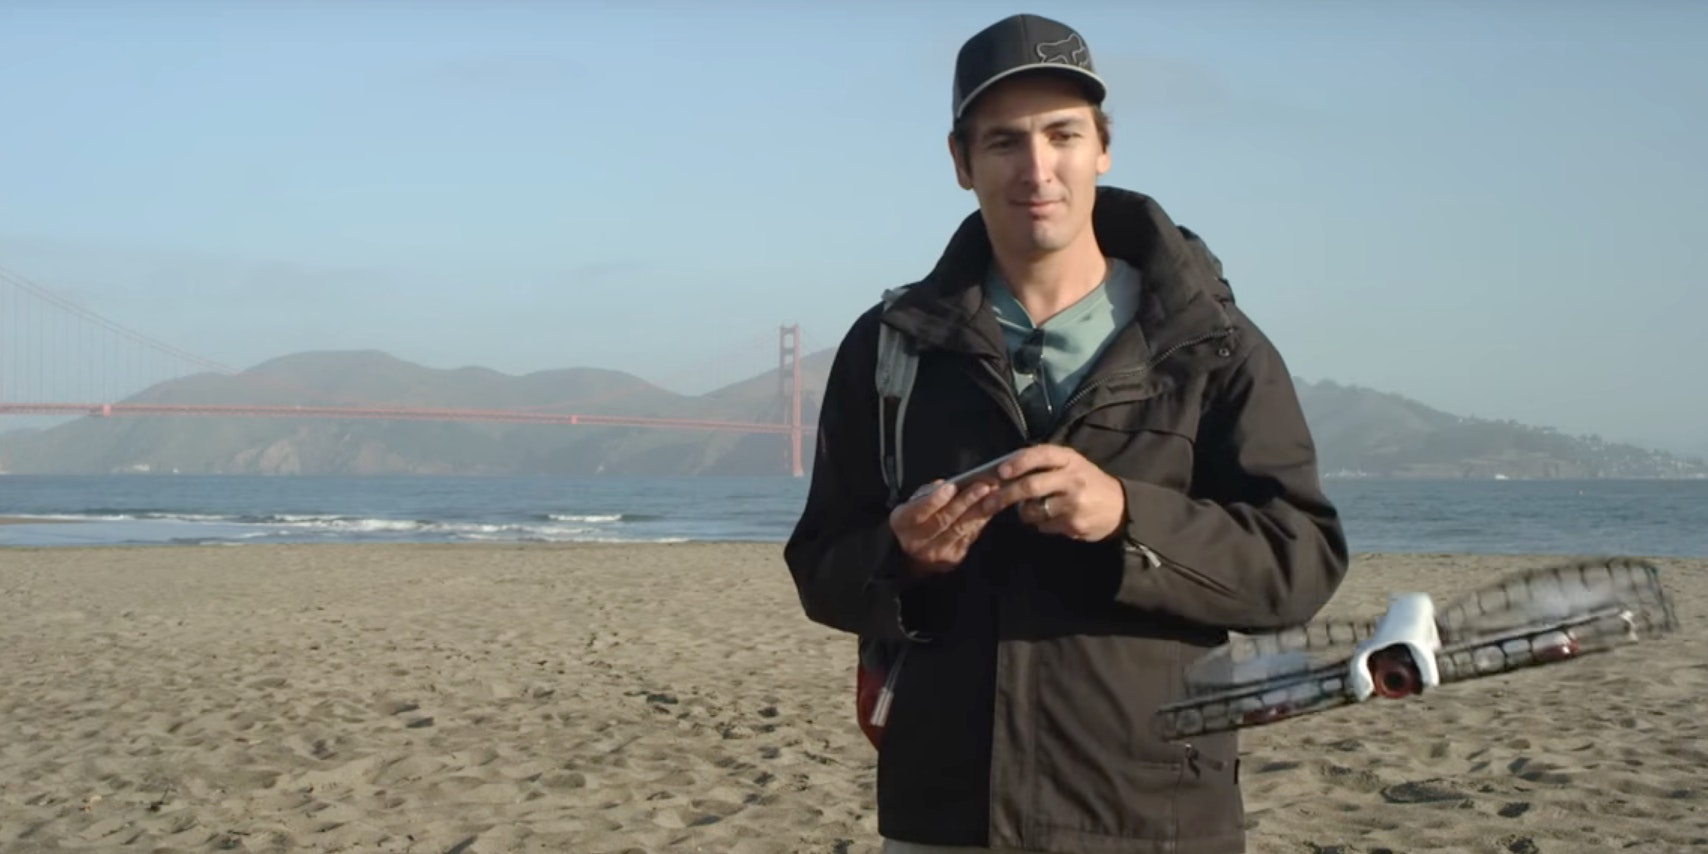drone: (1154, 555, 1684, 744)
person: (785, 14, 1356, 854)
